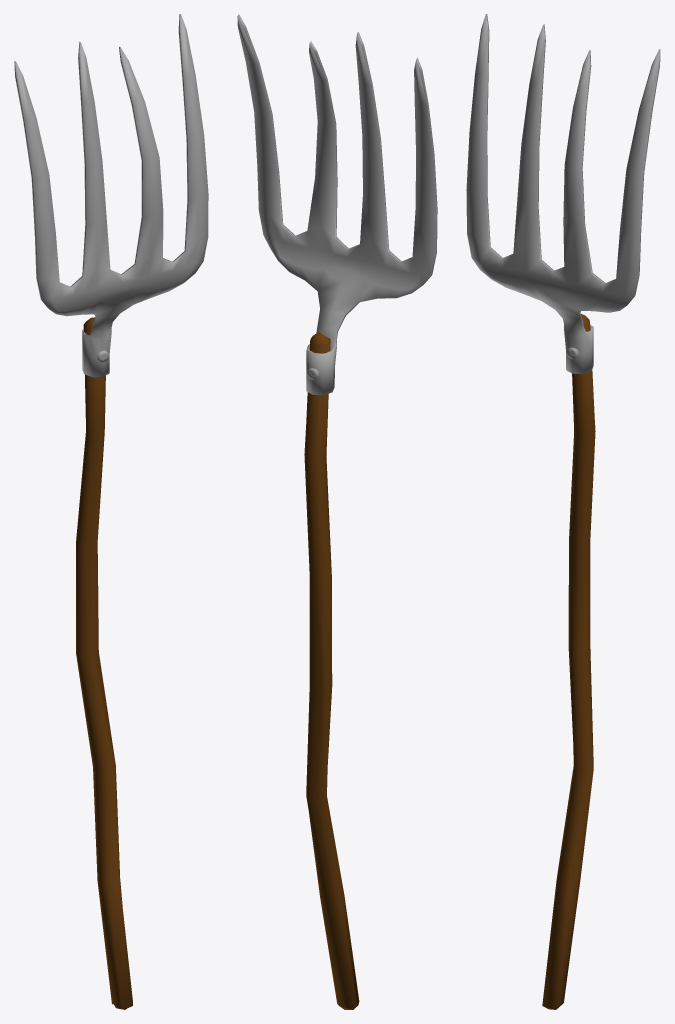
The model's file is pitchfork_Low2.fbx.
3 renders of one model, left to right at view 1: azimuth 30°, elevation 25°; view 2: azimuth 150°, elevation 25°; view 3: azimuth 330°, elevation 25°, orthographic. The views are drawn at different scales.
Visible parts, largest first — view 1: Pitchfork_2_Handle, Pitchfork_2_Handle.001; view 2: Pitchfork_2_Handle, Pitchfork_2_Handle.001; view 3: Pitchfork_2_Handle, Pitchfork_2_Handle.001.
Part boxes in pixels (left/top/right/bottom): Pitchfork_2_Handle: left=14, top=14, right=208, bottom=377; Pitchfork_2_Handle.001: left=76, top=317, right=132, bottom=1009; Pitchfork_2_Handle: left=237, top=14, right=437, bottom=395; Pitchfork_2_Handle.001: left=304, top=332, right=359, bottom=1009; Pitchfork_2_Handle: left=466, top=14, right=660, bottom=374; Pitchfork_2_Handle.001: left=542, top=314, right=595, bottom=1009.
Size of the model in its own units: 38.09 by 200 by 15.77.
